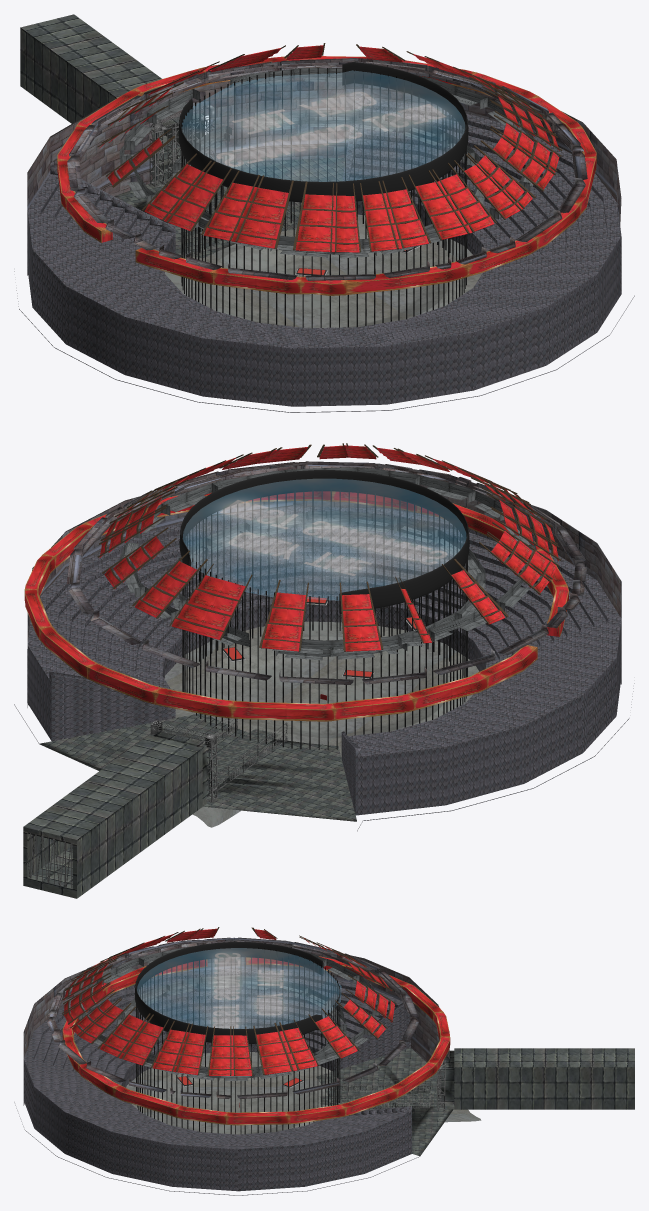
Rendered from arena.glb.
The picture shows the model from 3 angles, top to bottom: view 1: azimuth 30°, elevation 25°; view 2: azimuth 150°, elevation 25°; view 3: azimuth 270°, elevation 25°; orthographic projection. The views are drawn at different scales.
Parts seen in each view (by area): view 1: Arena_Base_Arena_Base_polySurface134_polySurface1_arena_floo, Cube, Arena_Base_polySurface18_walls_Arena_Base, Arena_Base_pTorus1_fence001, Arena_Base_Arena_Base_polySurface134_polySurface1_arena_flo0 (×2), Arena, Arena_Base_fence_transform39_33, Entrance_Floor_Arena_Base, Arena_Base_pTorus1_fence, Arena_Base_Entrance_Sides001, Arena_Base_Entrance_Sides002, Arena_Base_Entrance_Sides003 (+1 smaller); view 2: Arena_Base_Arena_Base_polySurface134_polySurface1_arena_floo, Arena_Base_Arena_Base_polySurface134_polySurface1_arena_flo0 (×2), Arena_Base_pTorus1_fence001, Cube, Entrance_Floor_Arena_Base, Arena, Arena_Base_fence_transform39_33, Arena_Base_polySurface18_walls_Arena_Base, Arena_Base_pTorus1_fence, Arena_Base_Entrance_Sides001, Arena_Base_Entrance_Sides002, Arena_Base_Entrance_Sides003 (+4 smaller); view 3: Arena_Base_Arena_Base_polySurface134_polySurface1_arena_floo, Cube, Arena_Base_pTorus1_fence001, Entrance_Floor_Arena_Base, Arena_Base_Arena_Base_polySurface134_polySurface1_arena_flo0 (×2), Arena_Base_polySurface18_walls_Arena_Base, Arena, Arena_Base_fence_transform39_33, Arena_Base_pTorus1_fence, Arena_Base_Entrance_Sides001, Arena_Base_Entrance_Sides002, Arena_Base_Entrance_Sides003 (+2 smaller).
Boxes of the visible parts, <box> form: Arena_Base_Arena_Base_polySurface134_polySurface1_arena_floo: <box>14,91,634,412</box>; Cube: <box>97,43,562,252</box>; Arena_Base_polySurface18_walls_Arena_Base: <box>27,58,621,280</box>; Arena_Base_pTorus1_fence001: <box>182,70,464,181</box>; Arena_Base_Arena_Base_polySurface134_polySurface1_arena_flo0 (×2): <box>114,154,482,328</box>; Arena: <box>57,56,596,295</box>; Arena_Base_fence_transform39_33: <box>181,68,466,327</box>; Entrance_Floor_Arena_Base: <box>20,14,205,181</box>; Arena_Base_pTorus1_fence: <box>178,62,468,202</box>; Arena_Base_Entrance_Sides001: <box>119,68,535,254</box>; Arena_Base_Entrance_Sides002: <box>172,110,483,239</box>; Arena_Base_Entrance_Sides003: <box>169,117,484,258</box>; Arena_Base_Arena_Base_polySurface134_polySurface1_arena_floo: <box>14,506,634,831</box>; Arena_Base_Arena_Base_polySurface134_polySurface1_arena_flo0 (×2): <box>39,621,478,827</box>; Arena_Base_pTorus1_fence001: <box>183,479,466,600</box>; Cube: <box>97,443,561,651</box>; Entrance_Floor_Arena_Base: <box>23,731,209,898</box>; Arena: <box>24,491,568,721</box>; Arena_Base_fence_transform39_33: <box>182,489,467,749</box>; Arena_Base_polySurface18_walls_Arena_Base: <box>27,461,621,707</box>; Arena_Base_pTorus1_fence: <box>179,470,469,614</box>; Arena_Base_Entrance_Sides001: <box>119,467,536,654</box>; Arena_Base_Entrance_Sides002: <box>173,511,485,652</box>; Arena_Base_Entrance_Sides003: <box>172,518,485,660</box>; Arena_Base_Arena_Base_polySurface134_polySurface1_arena_floo: <box>14,968,419,1195</box>; Cube: <box>62,927,396,1076</box>; Arena_Base_pTorus1_fence001: <box>137,948,341,1028</box>; Entrance_Floor_Arena_Base: <box>441,1048,634,1109</box>; Arena_Base_Arena_Base_polySurface134_polySurface1_arena_flo0 (×2): <box>126,1047,481,1156</box>; Arena_Base_polySurface18_walls_Arena_Base: <box>23,937,449,1105</box>; Arena: <box>62,956,450,1125</box>; Arena_Base_fence_transform39_33: <box>136,947,340,1134</box>; Arena_Base_pTorus1_fence: <box>135,942,323,1043</box>; Arena_Base_Entrance_Sides001: <box>78,946,379,1077</box>; Arena_Base_Entrance_Sides002: <box>116,975,346,1074</box>; Arena_Base_Entrance_Sides003: <box>116,980,346,1080</box>.
Size of the model in its own units: 55.66 by 19.25 by 77.
17 materials, 10 textured.
